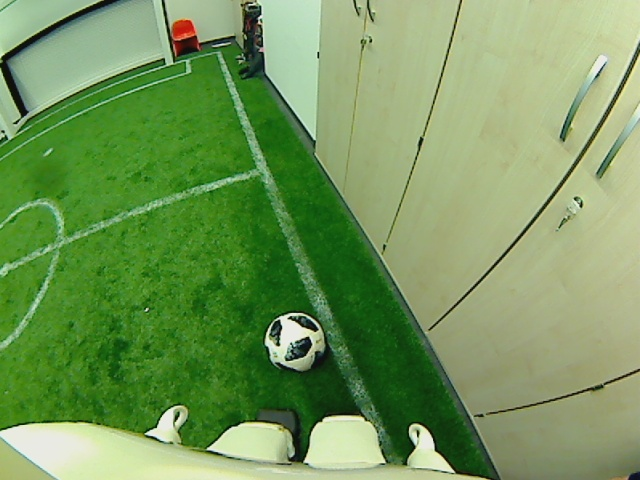ball: (262, 310, 327, 369)
